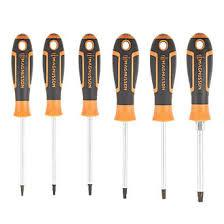screwdriver: (111, 32, 139, 198), (148, 33, 175, 198), (185, 31, 210, 201), (41, 32, 64, 195), (10, 32, 32, 196), (77, 32, 99, 194)
